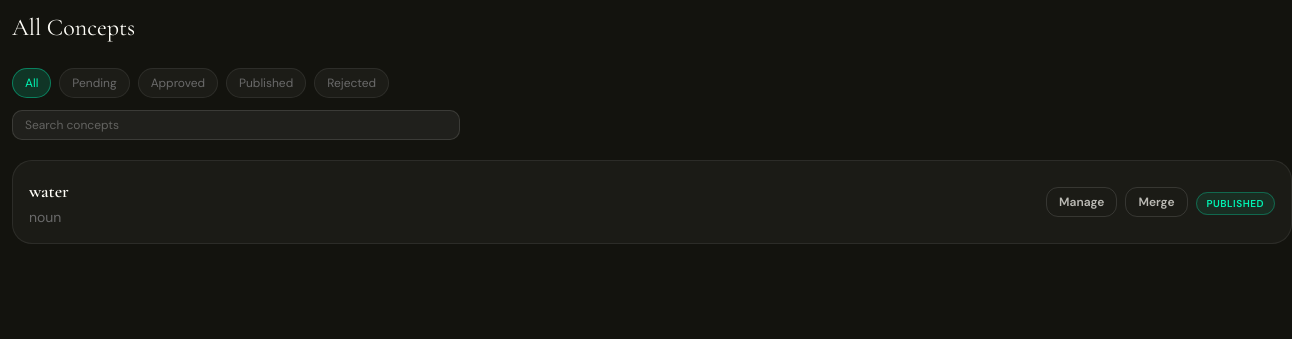
Test case: Expanding published concepts › shows an error state when variants fail to load
Click the text "water" at [49, 191], box [29,177,69,205]
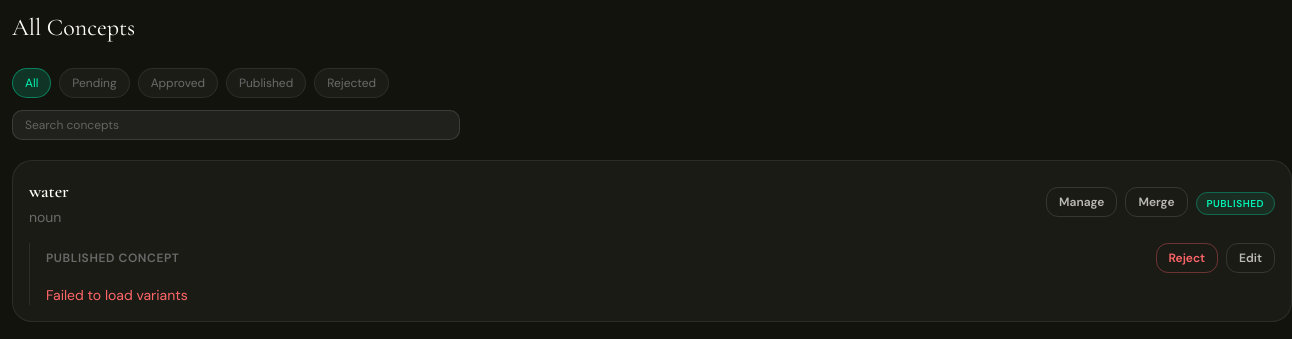
Now the text "Failed to load variants" is shown, box [46,286,188,304]
